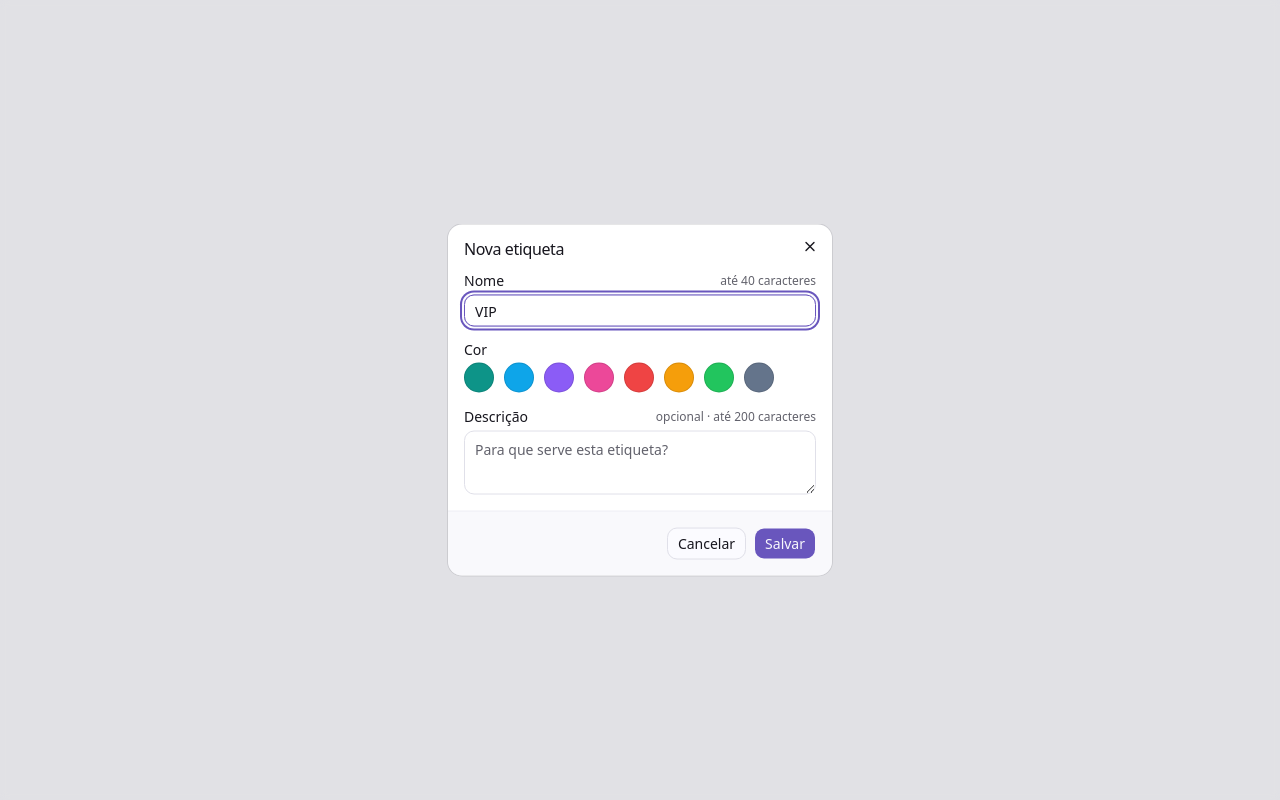
TagCreationDialog › shows a duplicate name without a field in the form banner
This screenshot has width=1280, height=800.
Check: the field labelled "Nome" is shown, box [464,294,816,326]
What coordinates should you click on to do the following:
click the radio button named "Azul"
I would click on:
 (519, 378)
Its box is [504,362,534,392].
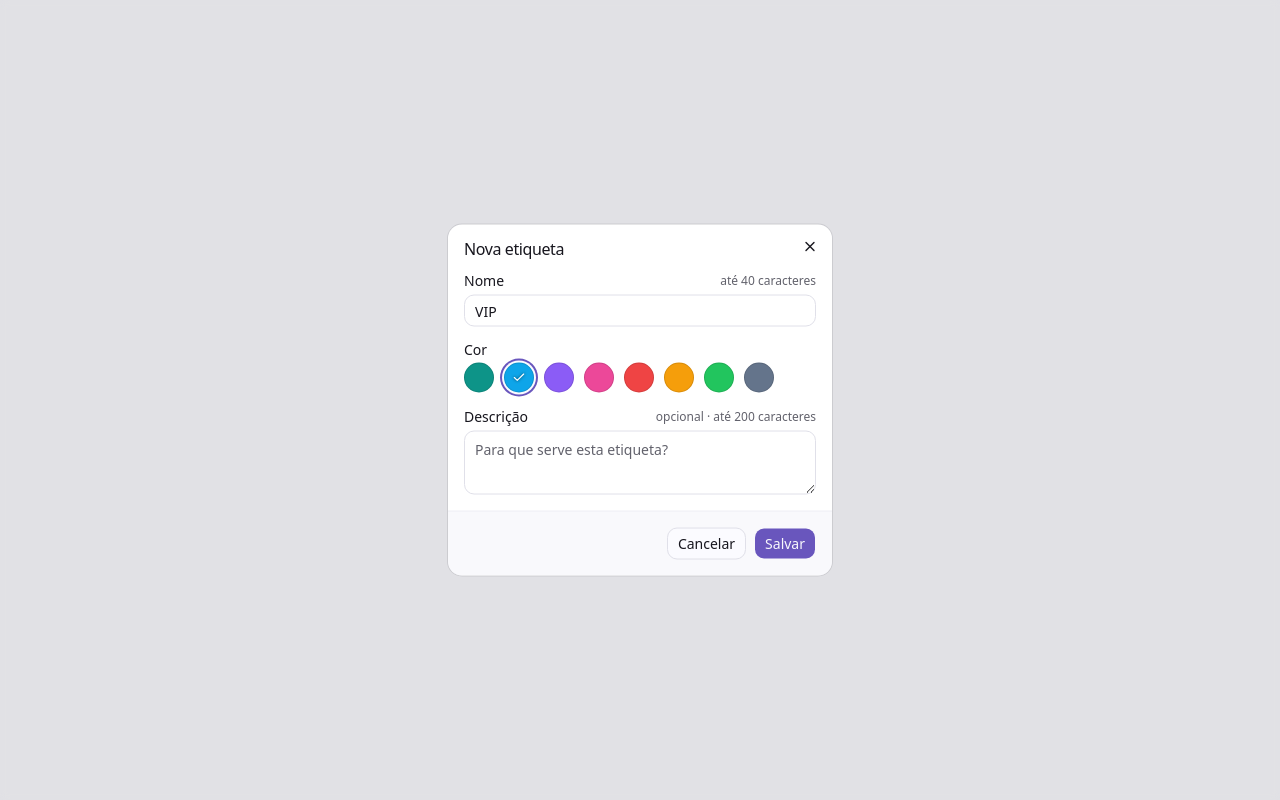
What coordinates should you click on to do the following:
click the button "Salvar"
I would click on:
 (785, 544)
Its box is [754,528,816,560].
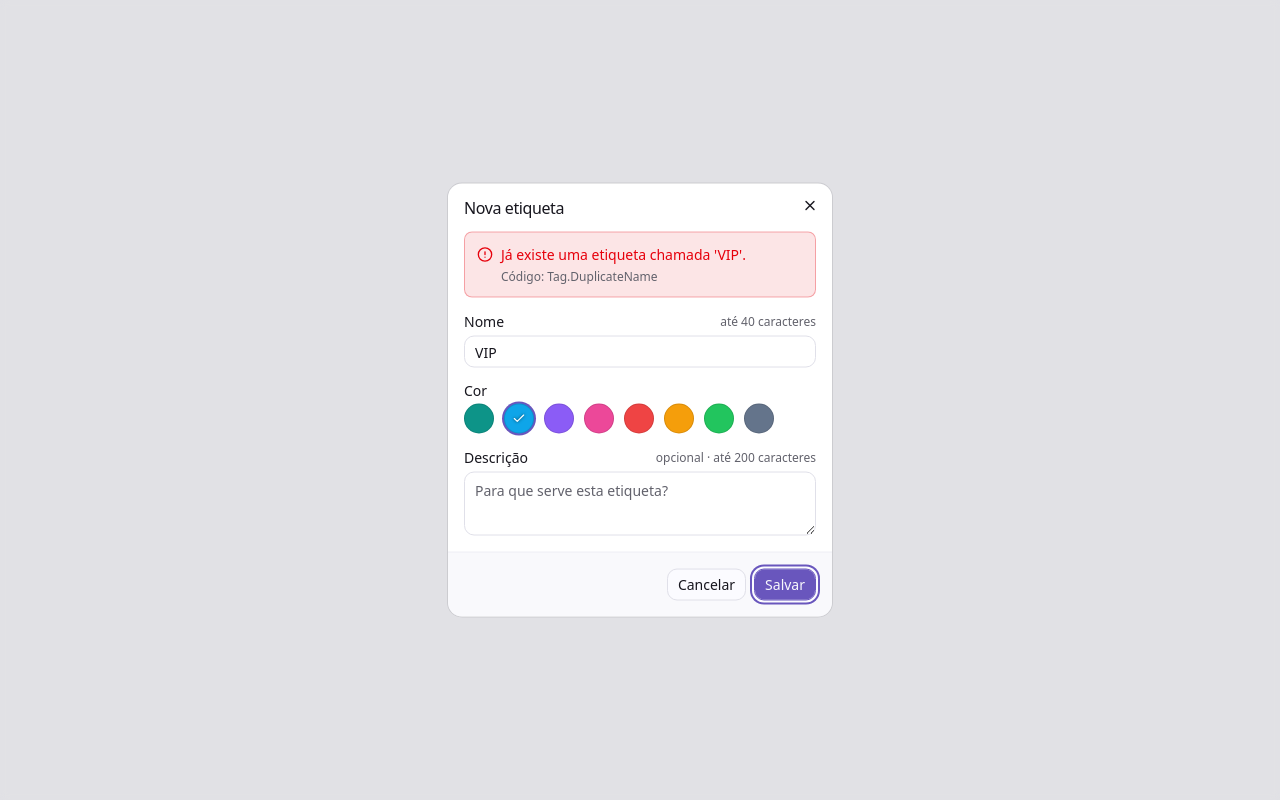
Check: the heading "Nova etiqueta" is shown, box [464,196,564,218]
Check: the message shows "Já existe uma etiqueta chamada 'VIP'.", box [501,244,746,264]
